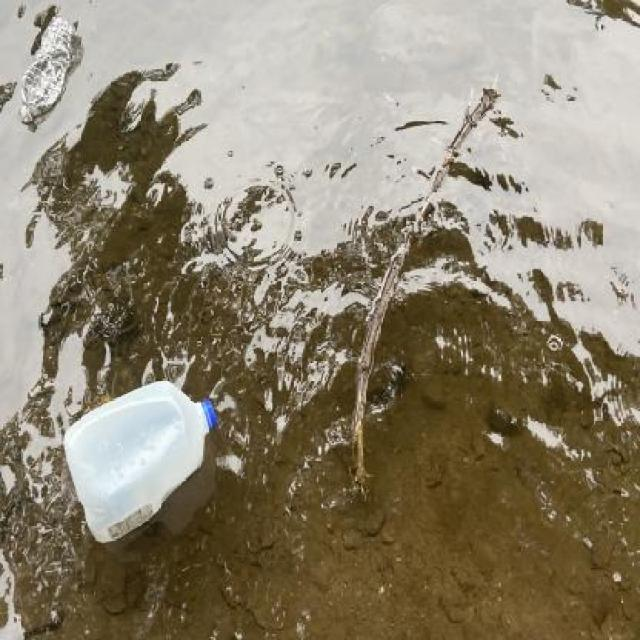Plastic: (58, 372, 225, 554), (8, 12, 86, 133)
